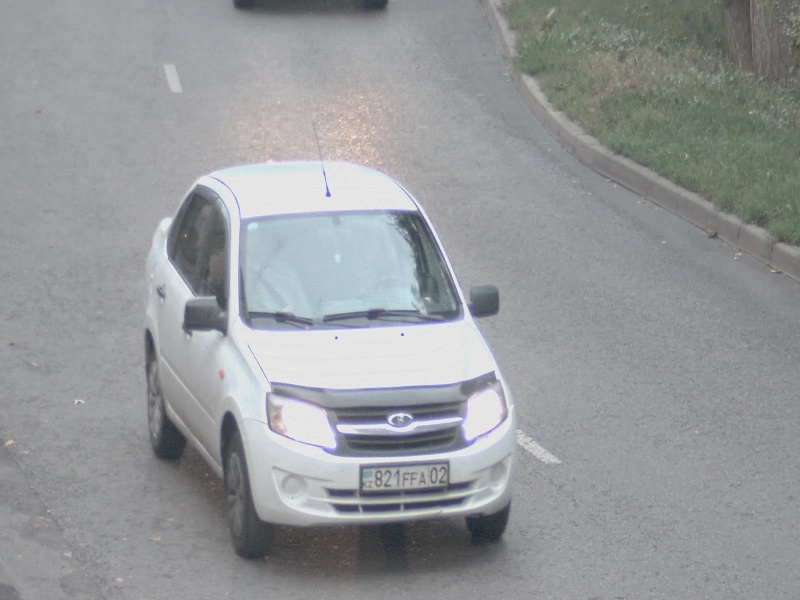plate: (359, 458, 451, 494)
